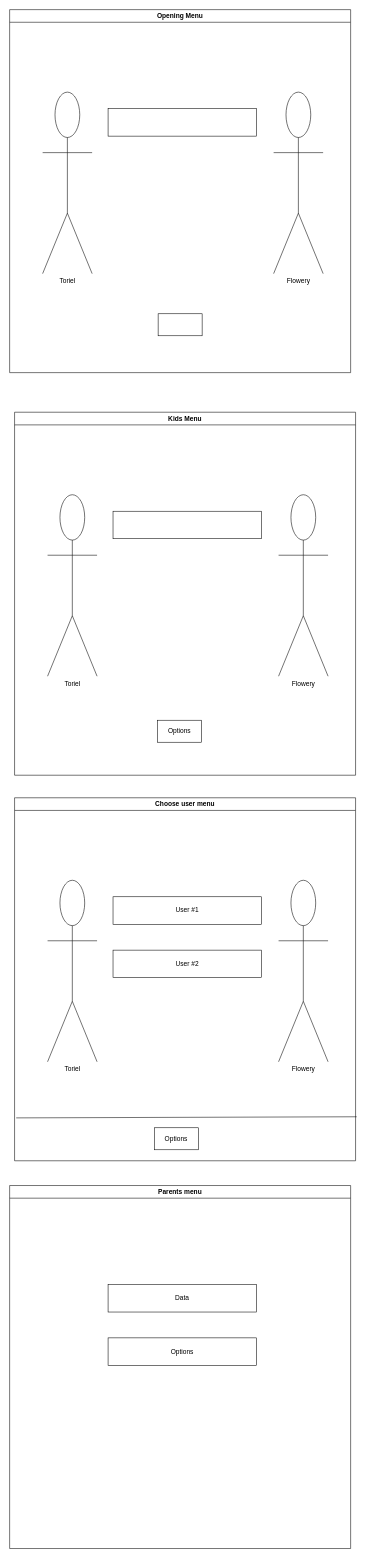
Some shapes in this 367 by 1558 pixel diagram are drawn without their labels. Each missing label, with the centre of its shape:
"Game" belongs at point 187,525.
"Kids" belongs at point 182,122.
"Parents" belongs at point 180,324.
